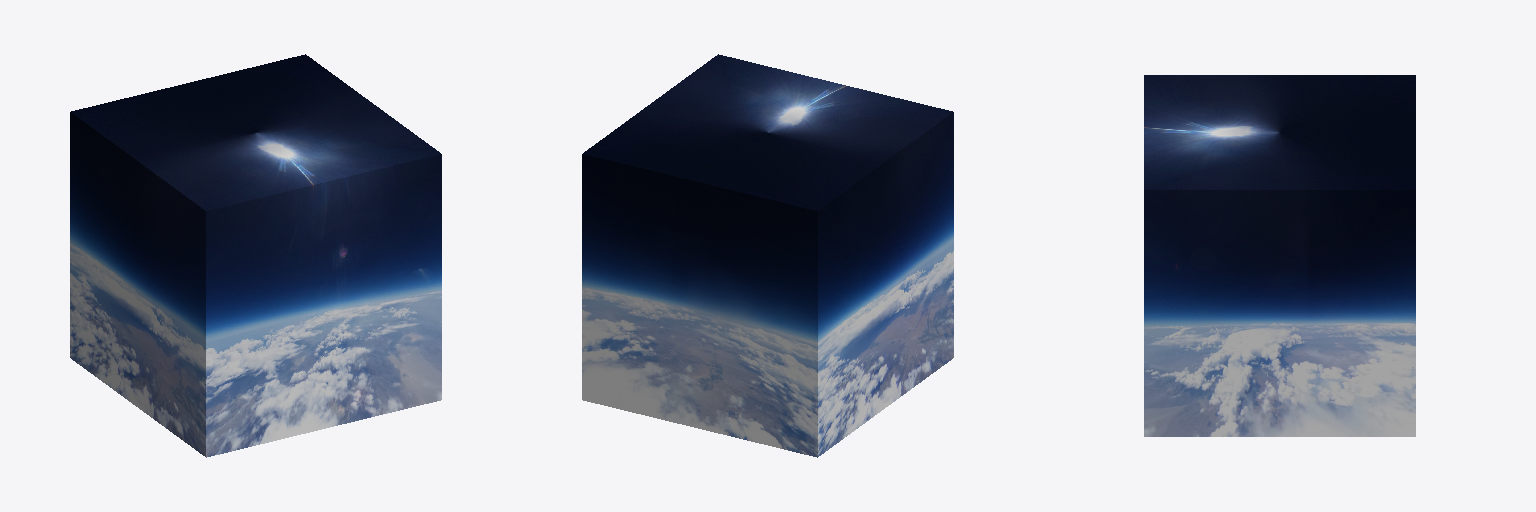
3 renders of one model, left to right at view 1: azimuth 30°, elevation 25°; view 2: azimuth 150°, elevation 25°; view 3: azimuth 270°, elevation 25°, orthographic.
Size of the model in its own units: 1001 by 1001 by 1001.
6 materials, 6 textured.